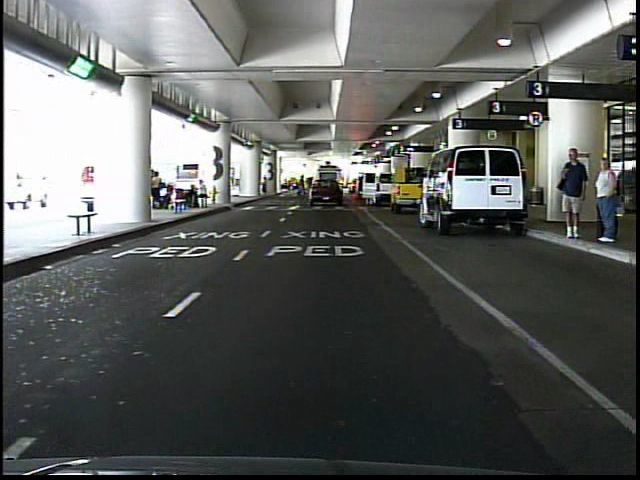person: (589, 152, 623, 245), (557, 145, 588, 242), (261, 170, 273, 195)
